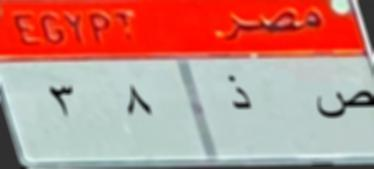3: (45, 82, 83, 124)
8: (120, 83, 158, 127)
saad: (311, 86, 374, 120)
zaal: (223, 74, 260, 122)
